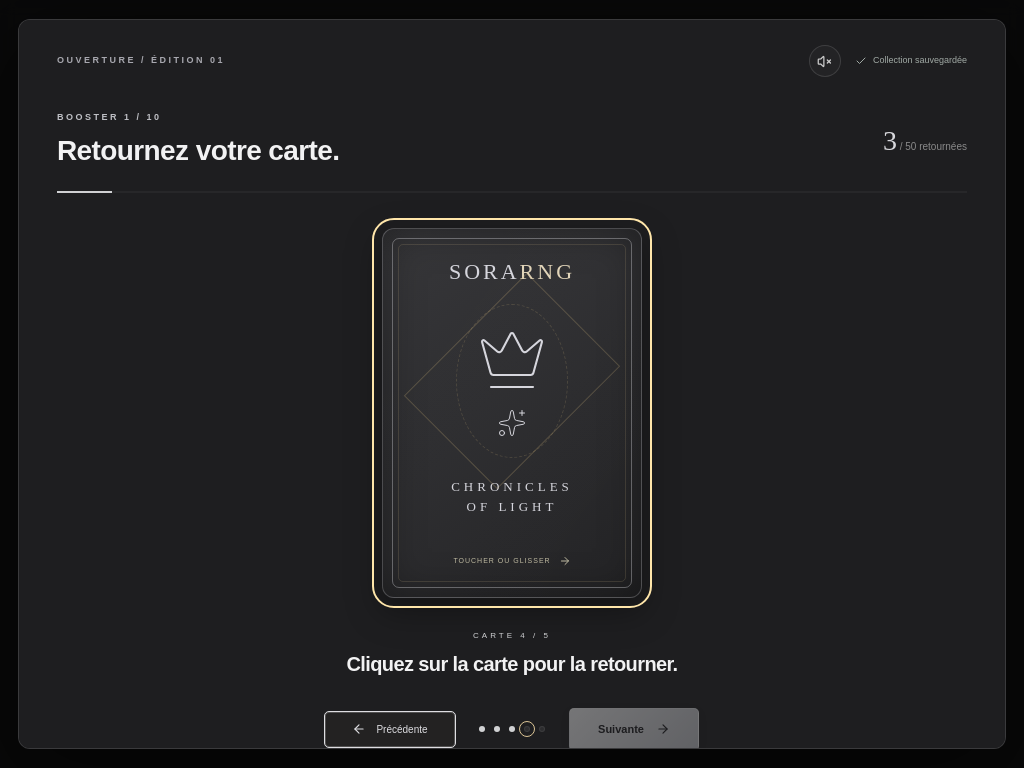
Scenario: un coffret exige les cinquante retournements, pas seulement le premier booster
Earlier steps of the test are not shown.
Later steps or results of the test are not shown.
Click the button with aria-label "Retourner la carte 4": (512, 413) [382,228,642,598]
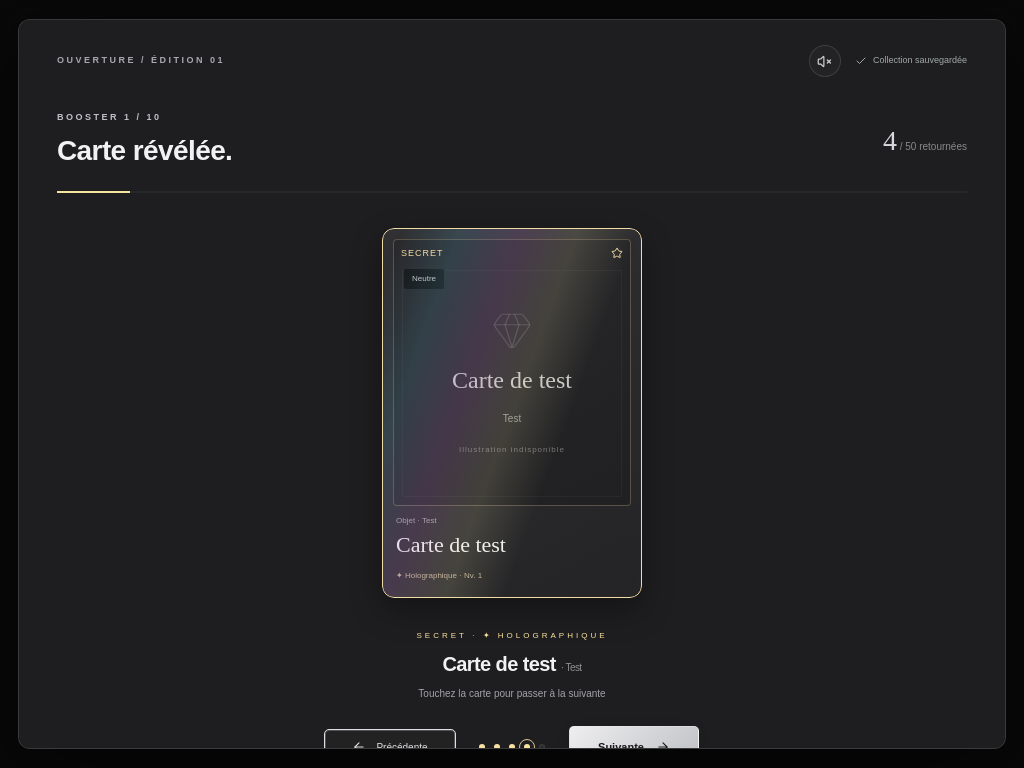
Click the button "Suivante": (634, 747) [569,726,699,767]
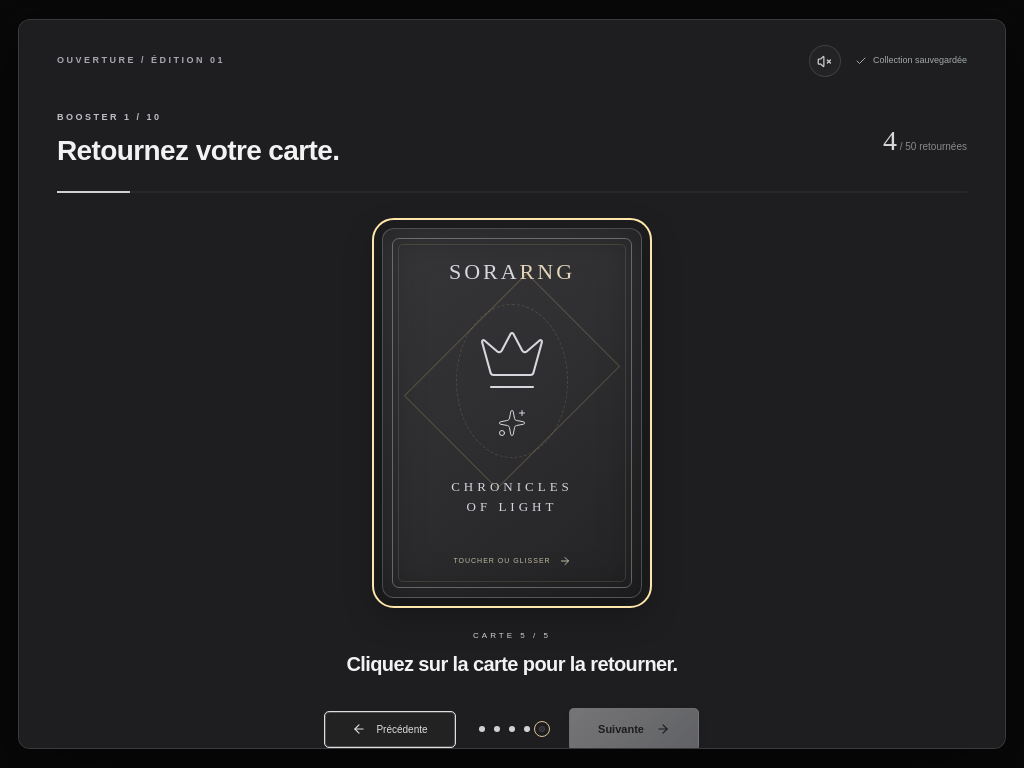
Click the button with aria-label "Retourner la carte 5": (512, 413) [382,228,642,598]
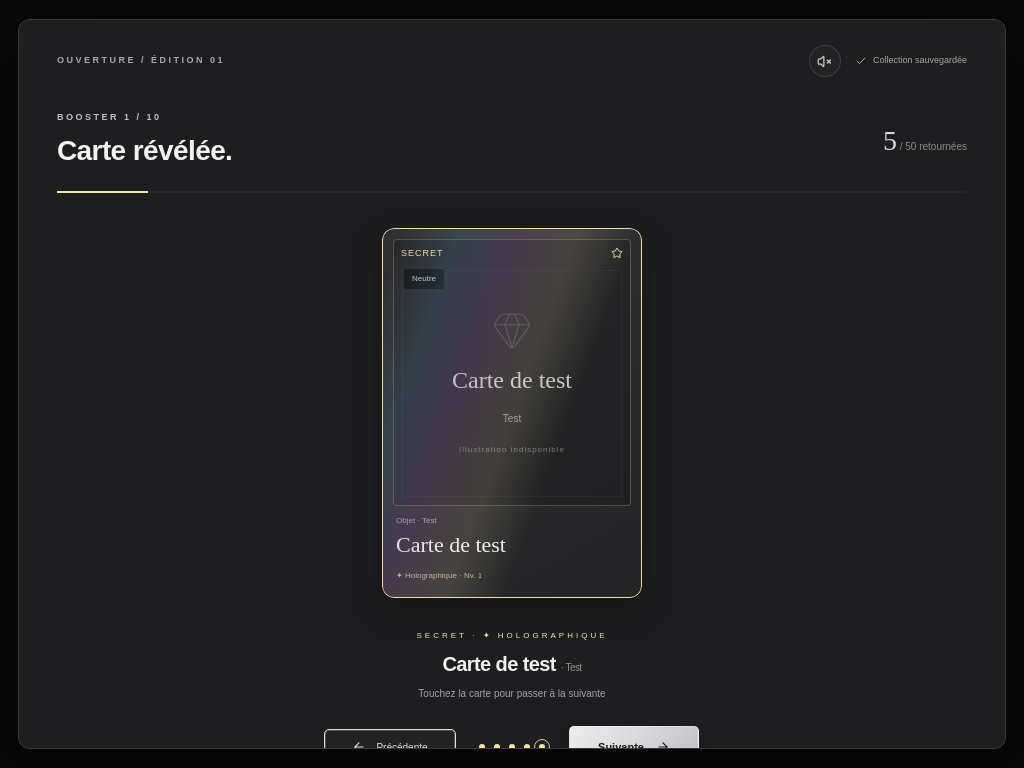
Click the button "Suivante": (634, 747) [569,726,699,767]
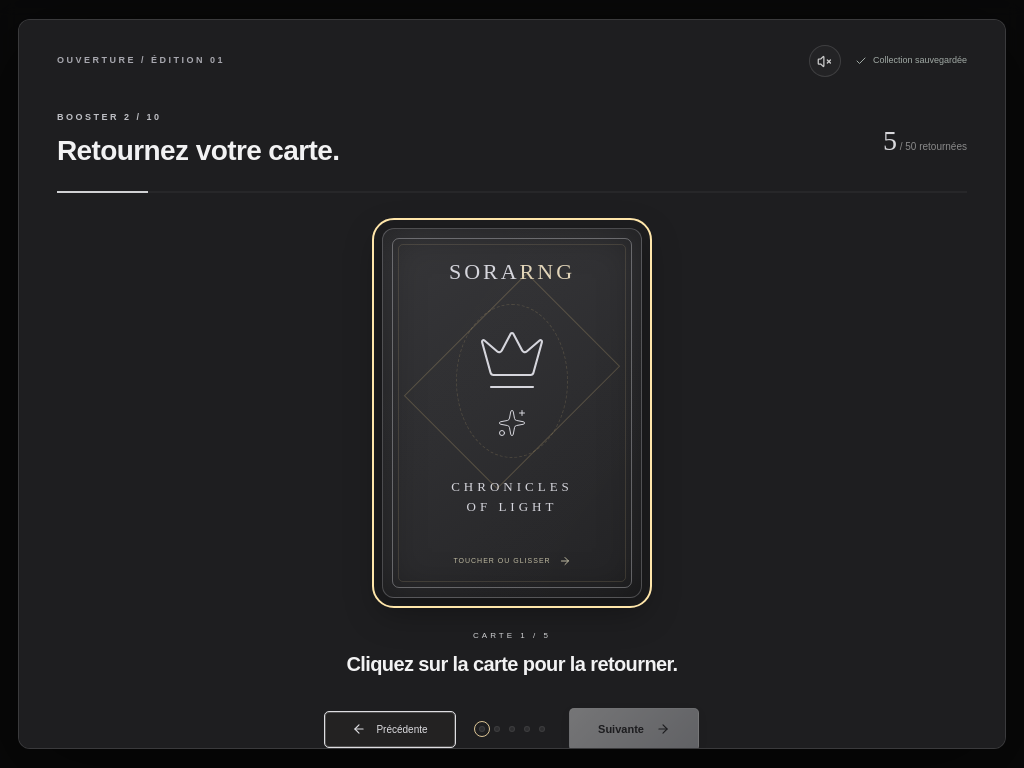
Click the button with aria-label "Retourner la carte 6": (512, 413) [382,228,642,598]
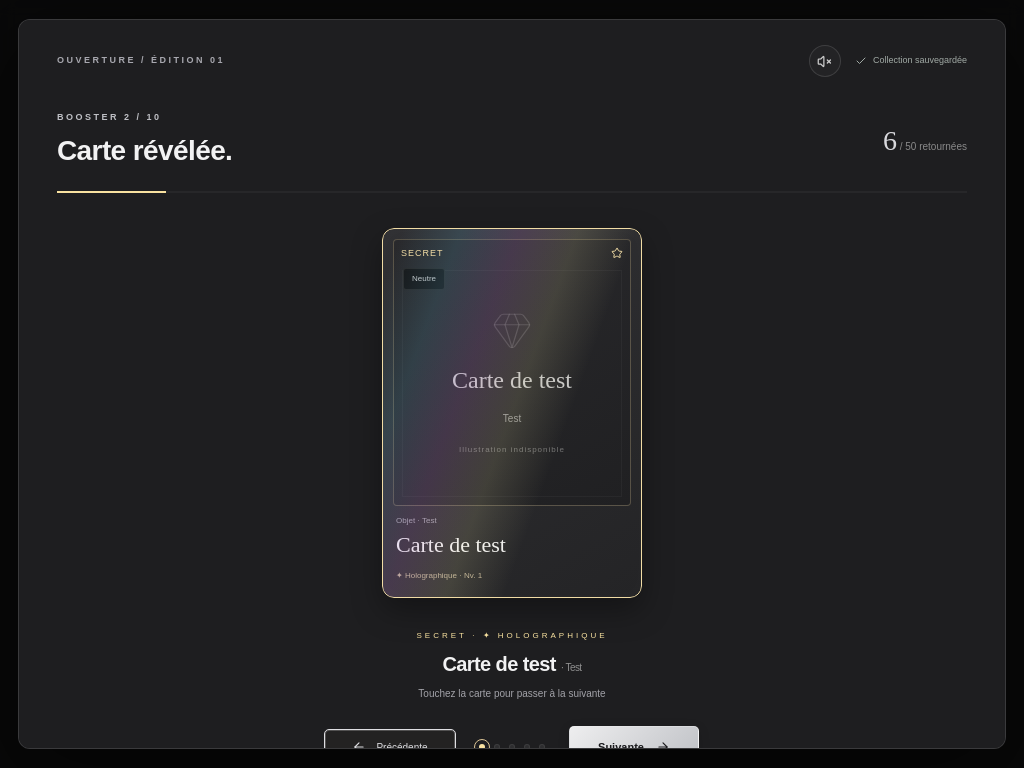
Click the button "Suivante": (634, 747) [569,726,699,767]
(page scrolled)
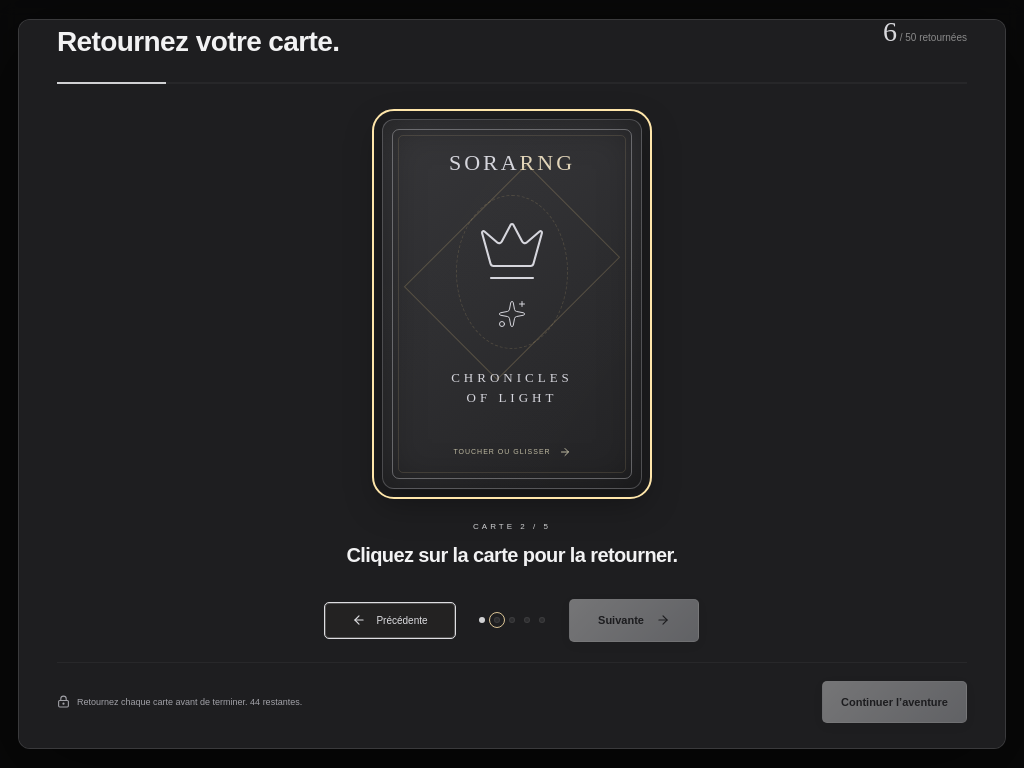
Check: the button "Continuer l’aventure" is disabled, box [822,681,967,723]
